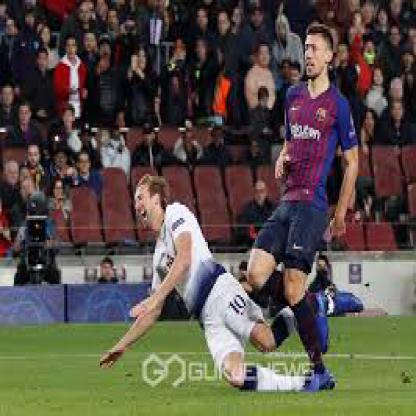Fall_Down: (98, 173, 365, 395)
